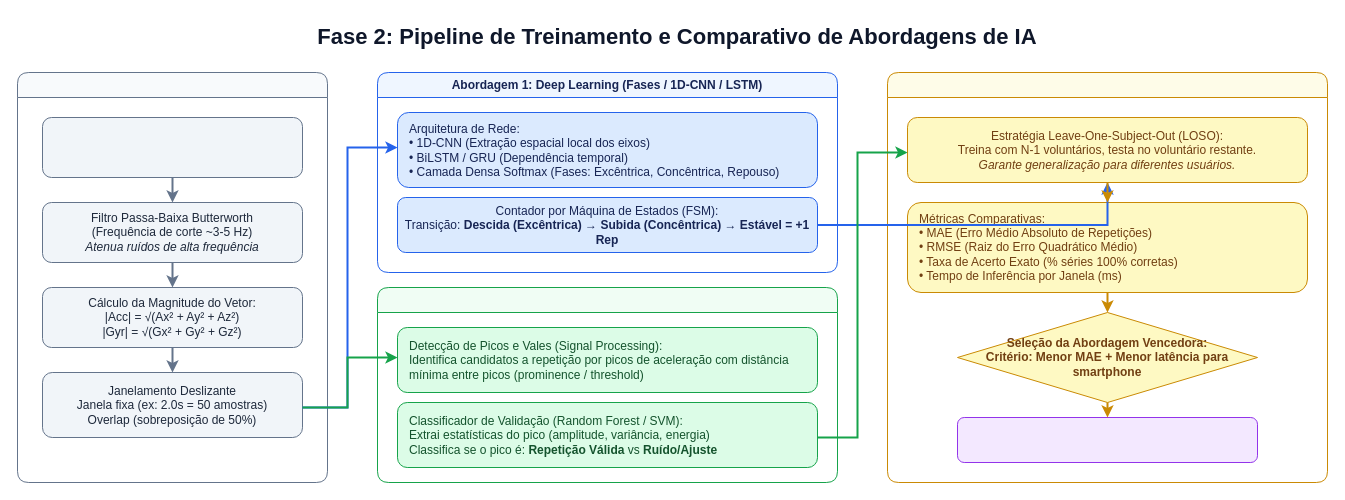
Some shapes in this 1345 by 500 pixel diagram are drawn without their labels. Each missing label, with the box of its shape:
1. Pré-processamento de Sinais: (16, 72, 328, 482)
3. Avaliação Rigorosa para o TCC (LOSO Cross-Validation): (886, 72, 1328, 482)
Abordagem 2: Detecção de Picos + IA Clássica (Híbrida): (376, 286, 838, 482)
Dataset Bruto (IMU) [AccX, AccY, AccZ, GyrX, GyrY, GyrZ] + Rótulo de Repetições: (42, 116, 302, 178)
Exportação do Modelo Vencedor: model.onnx ou model.tflite: (956, 416, 1258, 462)
